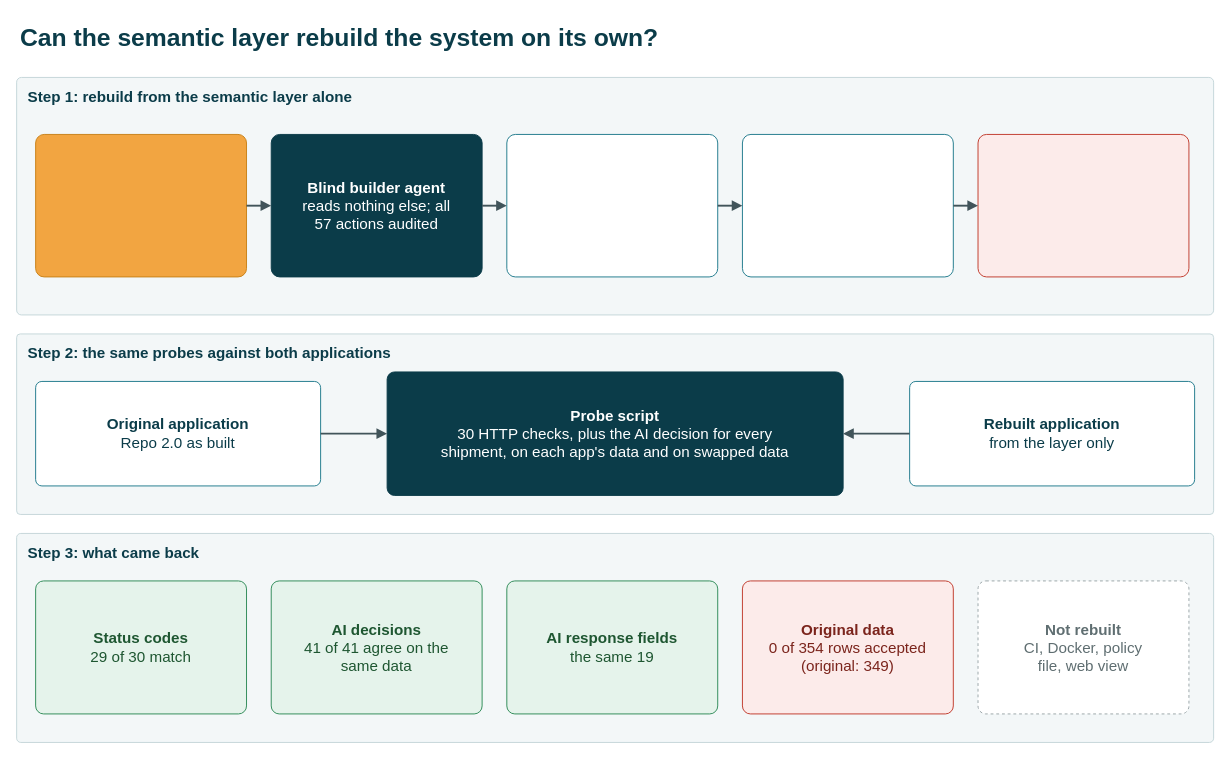
This 1230x759 diagram has some shape labels left out. The shapes that lost their labels are listed below. From the top down, each one's centre as x and y in pixels, then its label:
At point 141,205: "Input semantic-layer/ only: 21 files from commit a6fc839".
At point 612,205: "PRD 10 API operations, 5 workflows, each cited to the layer".
At point 847,205: "Application own synthetic data; 175 tests pass".
At point 1083,205: "GAPS.md 67 assumptions, 17 not buildable, 24 layer defects".
